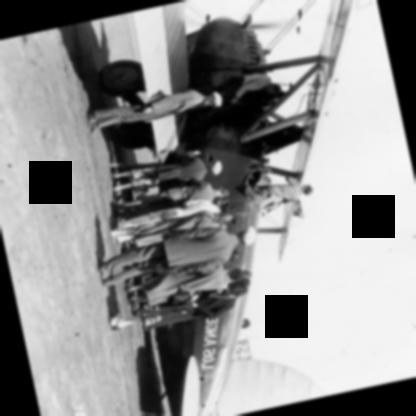handbag: (134, 91, 161, 104), (165, 292, 189, 305), (176, 285, 200, 295)
